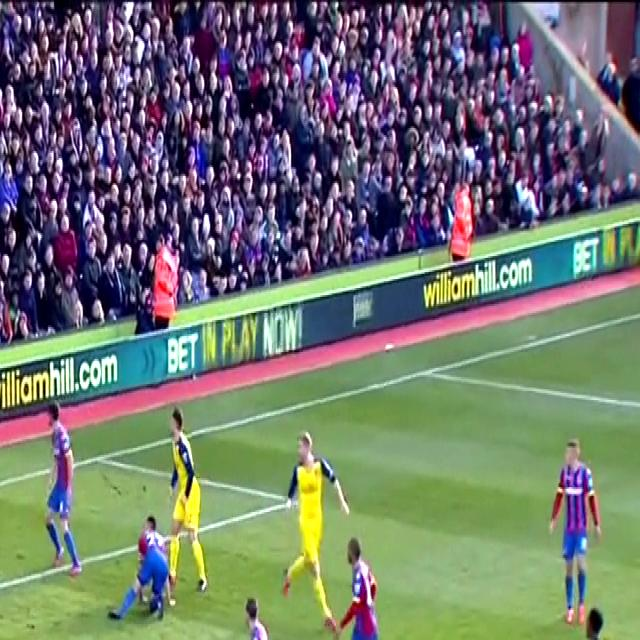soccer-player: (532, 432, 609, 630), (277, 430, 353, 606), (29, 402, 95, 584), (160, 401, 217, 590), (110, 510, 180, 630), (322, 538, 403, 640), (223, 594, 299, 640), (567, 586, 622, 640)
